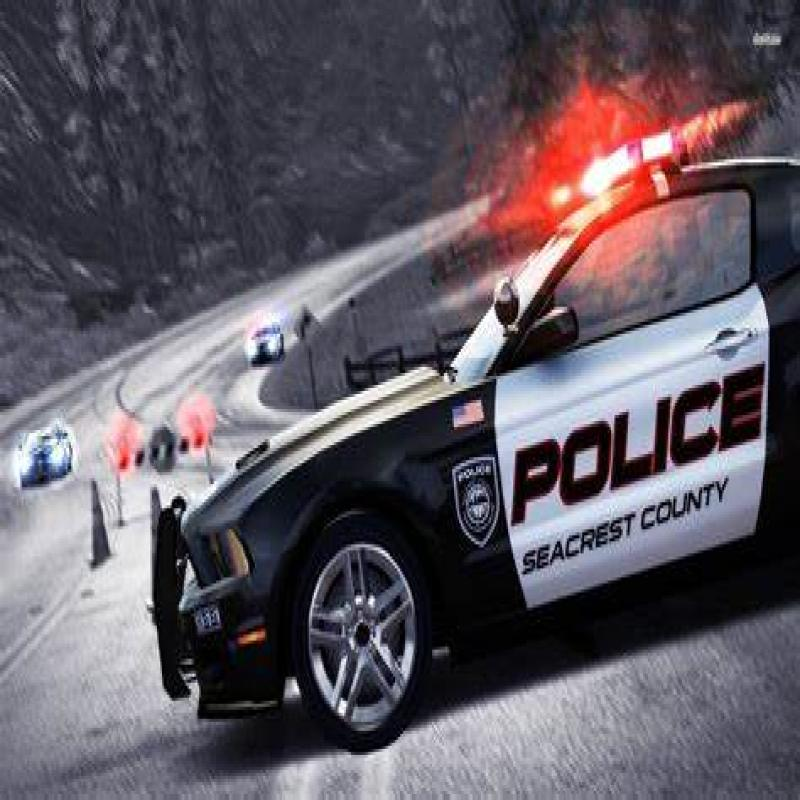AmbulanceSiren: (489, 82, 712, 225)
